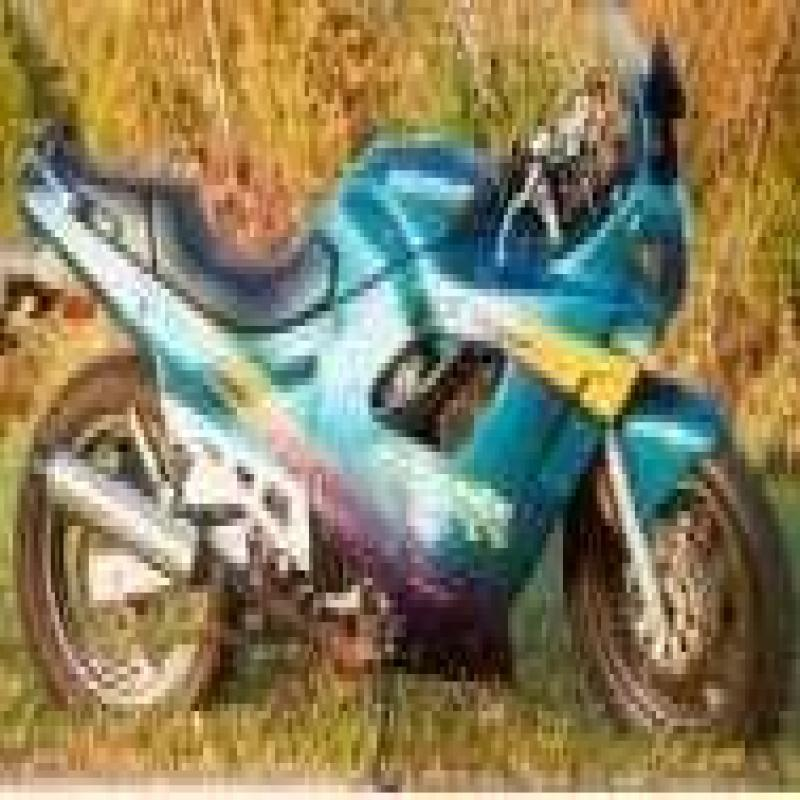bike: (1, 46, 788, 751)
